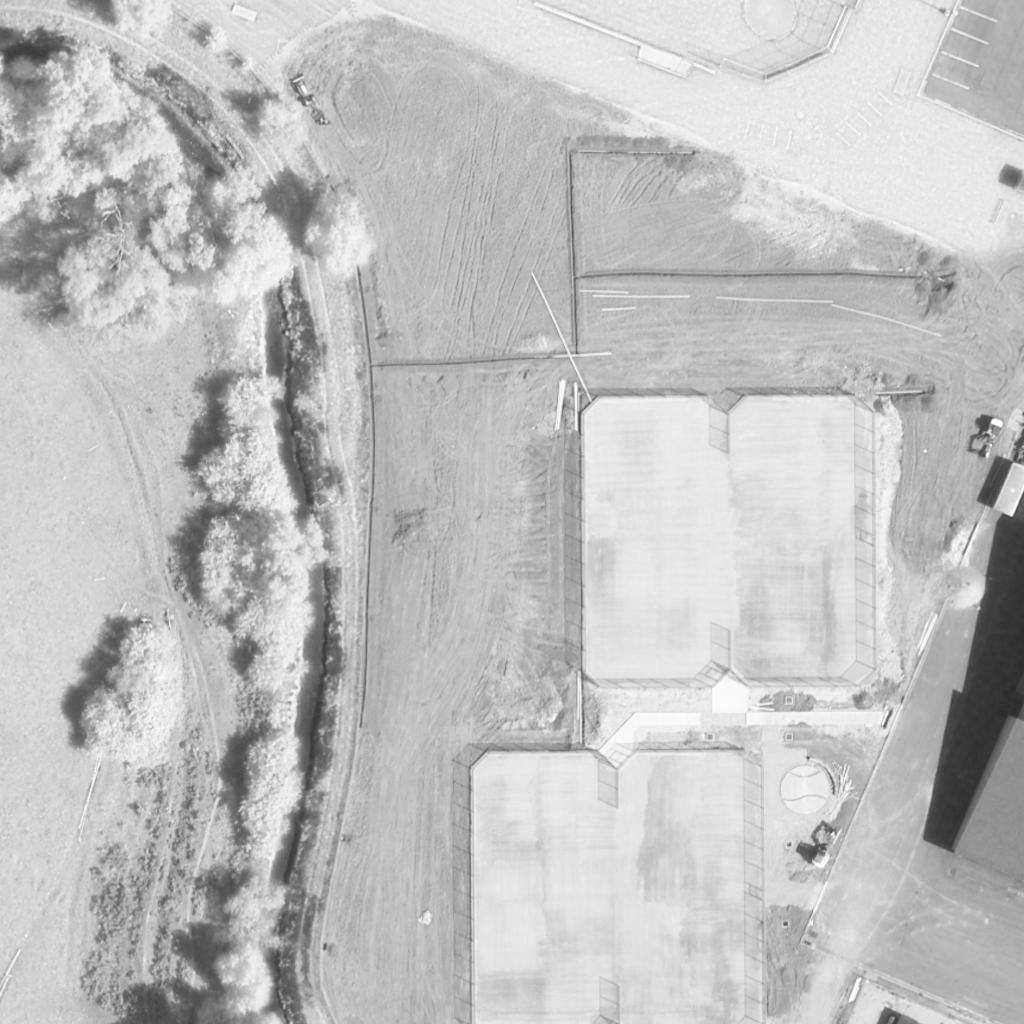vehicle: (812, 828, 846, 870), (975, 418, 1007, 460), (287, 74, 319, 108)
